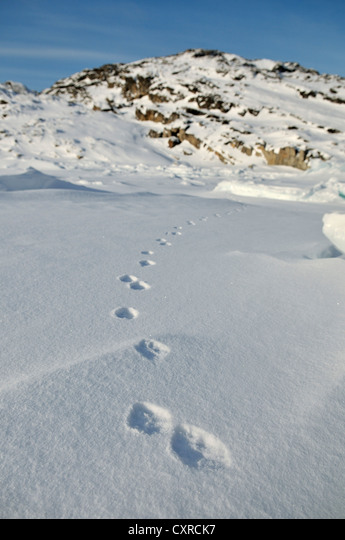fox: (166, 424, 227, 468), (129, 400, 170, 437), (131, 339, 174, 365)
